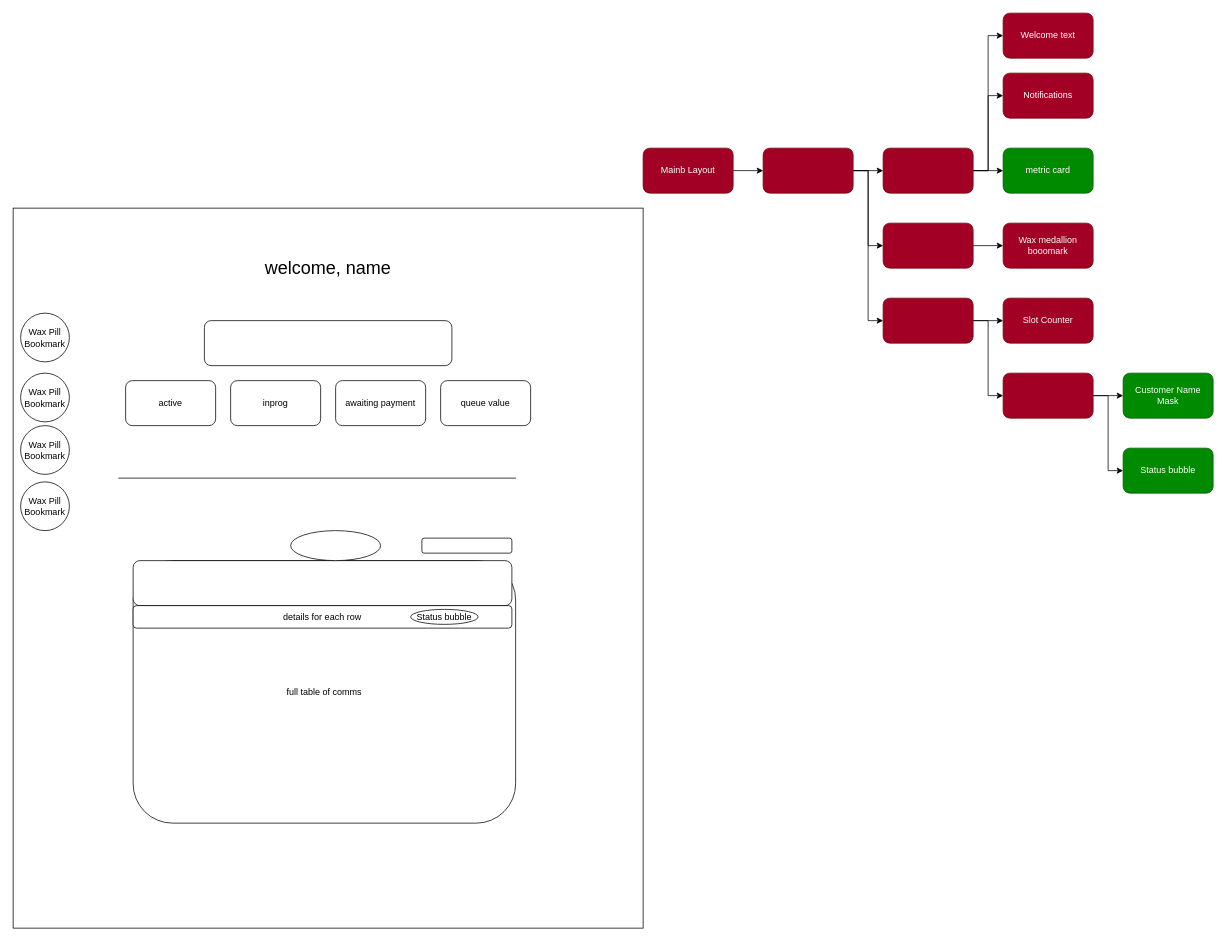
Some shapes in this 1226 by 941 pixel diagram are drawn without their labels. Here are the shapes that lost their labels. From the top down, the centre of each, then its label:
At (807,170): "Commision Queue Page".
At (927,170): "header".
At (927,245): "BookMark List".
At (927,320): "Commission Table".
At (328,343): "notifications since last opened?".
At (1047,395): "Table Row".
At (335,545): "7/7 slots available".
At (466,545): "Sort options".
At (322,583): "Client, status, progress, fee, due".
